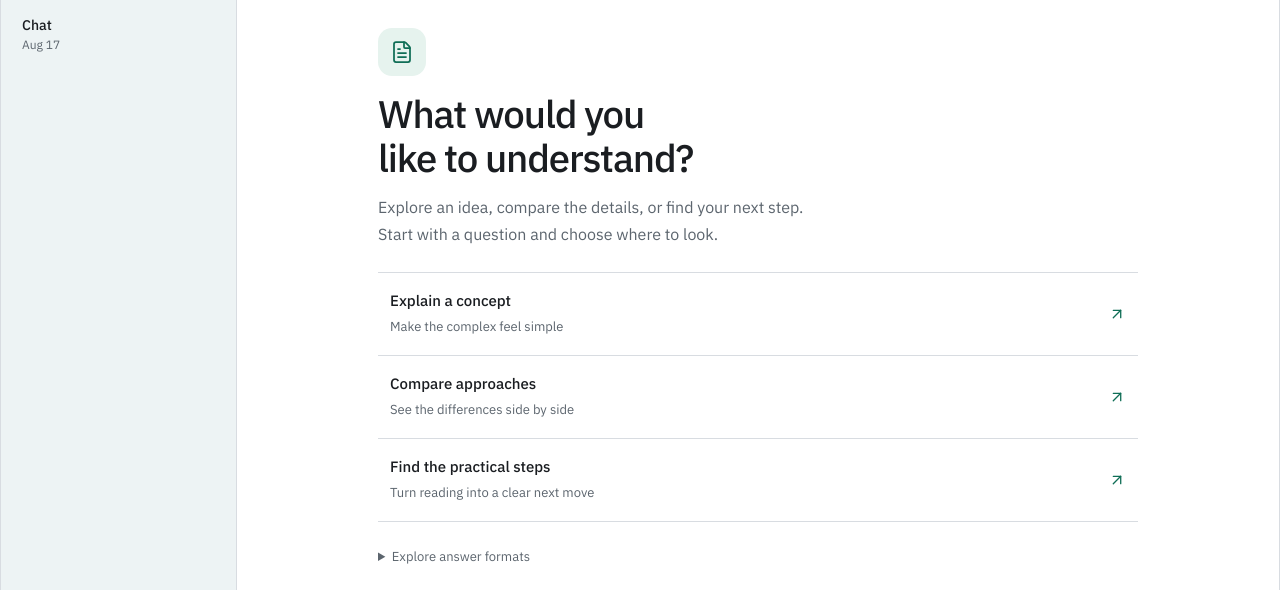
Test case: ChatApp Ask workspace › shows clarification and no citation chips for an ambiguous origin
Click the button "Chat Aug 17": (118, 34) x1=13 y1=6 x2=224 y2=62
(page scrolled)
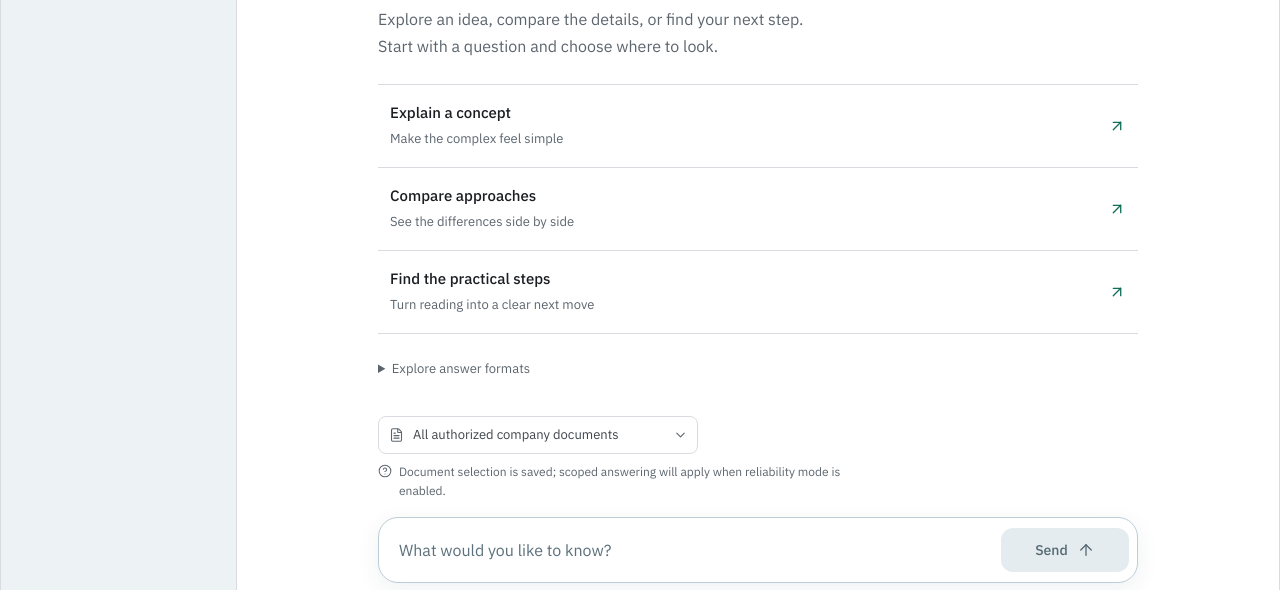
In the text box named "Message": (688, 550) x1=387 y1=526 x2=989 y2=574, type "France and refund"
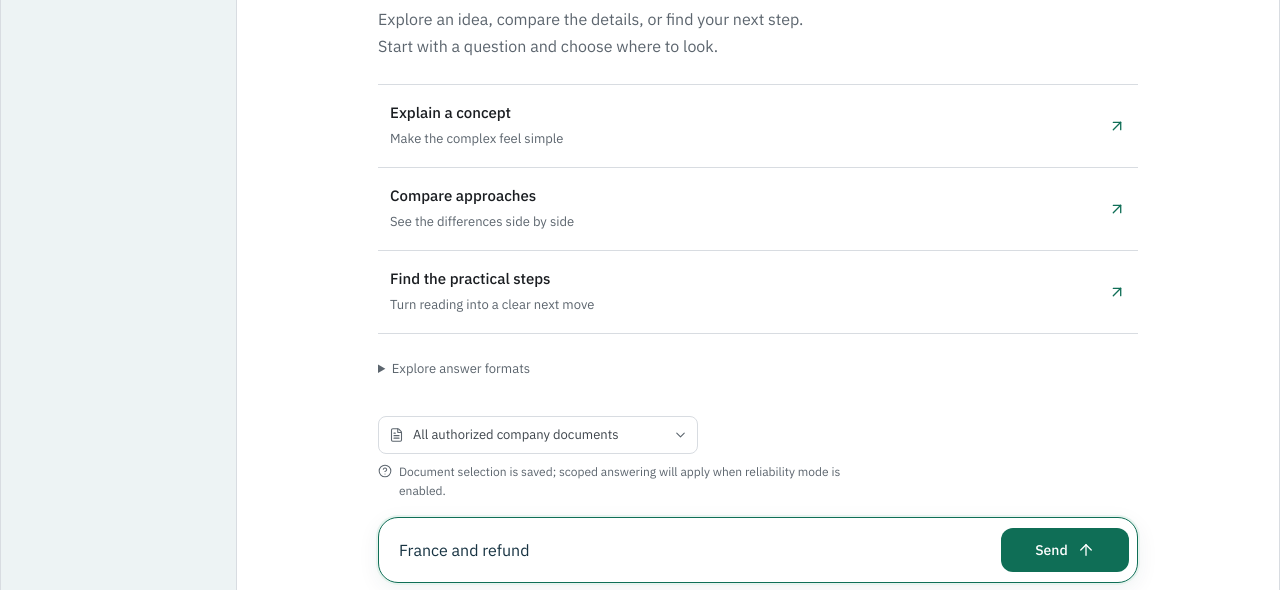
Click the button "Send": (1065, 550) x1=1001 y1=528 x2=1129 y2=572
(page scrolled)
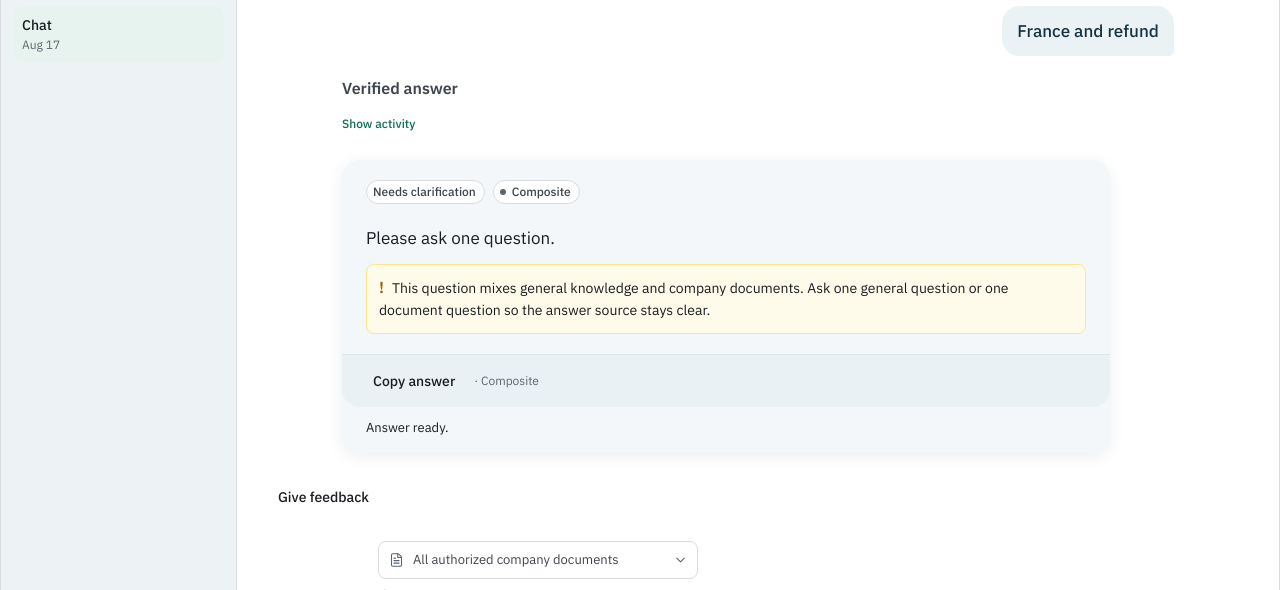
Expected: the text "This question mixes general knowledge and company documents. Ask one general question or one document question so the an" is shown, x1=379 y1=280 x2=1008 y2=320
Expected: the element with test id "answer-origin" reads "Needs clarification", x1=373 y1=184 x2=476 y2=199
